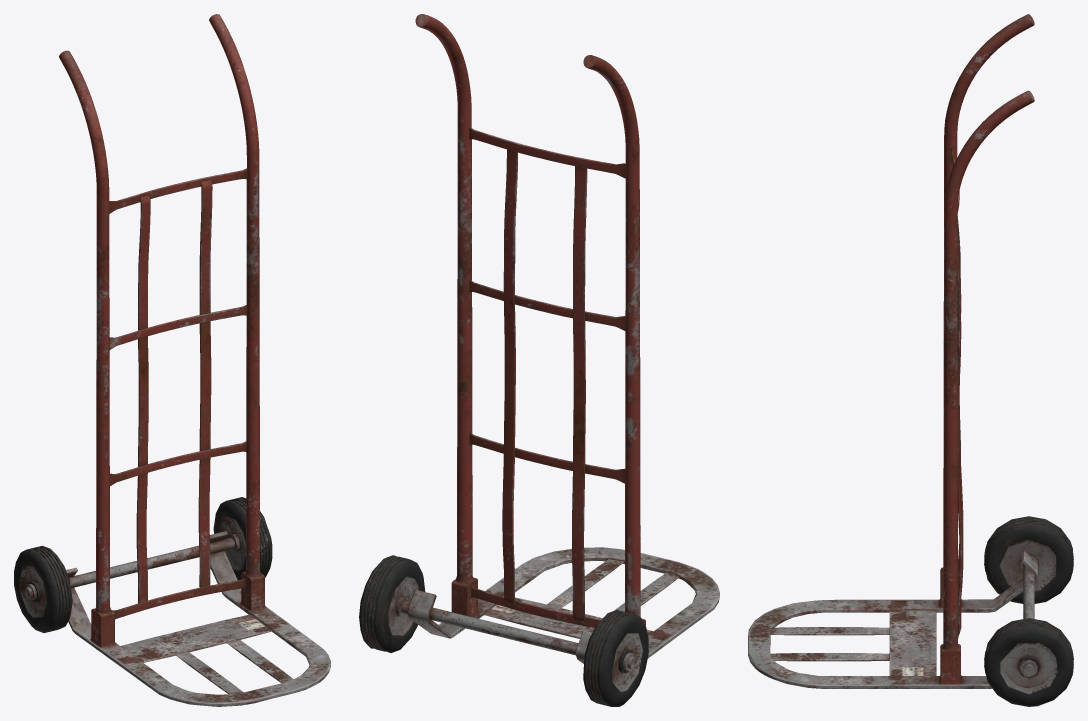
Rendered from hand_truck.glb.
The picture shows the model from 3 angles, left to right: view 1: azimuth 30°, elevation 25°; view 2: azimuth 150°, elevation 25°; view 3: azimuth 270°, elevation 25°; orthographic projection. The views are drawn at different scales.
Visible parts, largest first — view 1: hand_truck; view 2: hand_truck; view 3: hand_truck.
Boxes of the visible parts, bbox=[...] form: hand_truck: bbox=[14, 14, 330, 706]; hand_truck: bbox=[359, 14, 719, 706]; hand_truck: bbox=[748, 14, 1073, 706].
Bounding box in the file's own units: 0.5933 × 1.4 × 0.6922.
Materials: 1 (1 with a texture image).
